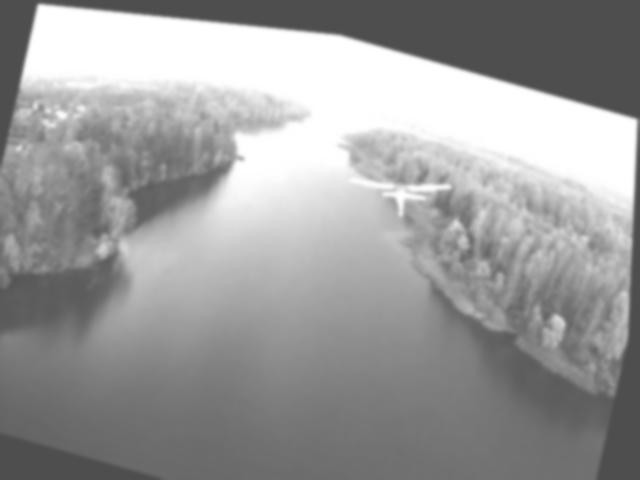hedef: (334, 130, 466, 235)
